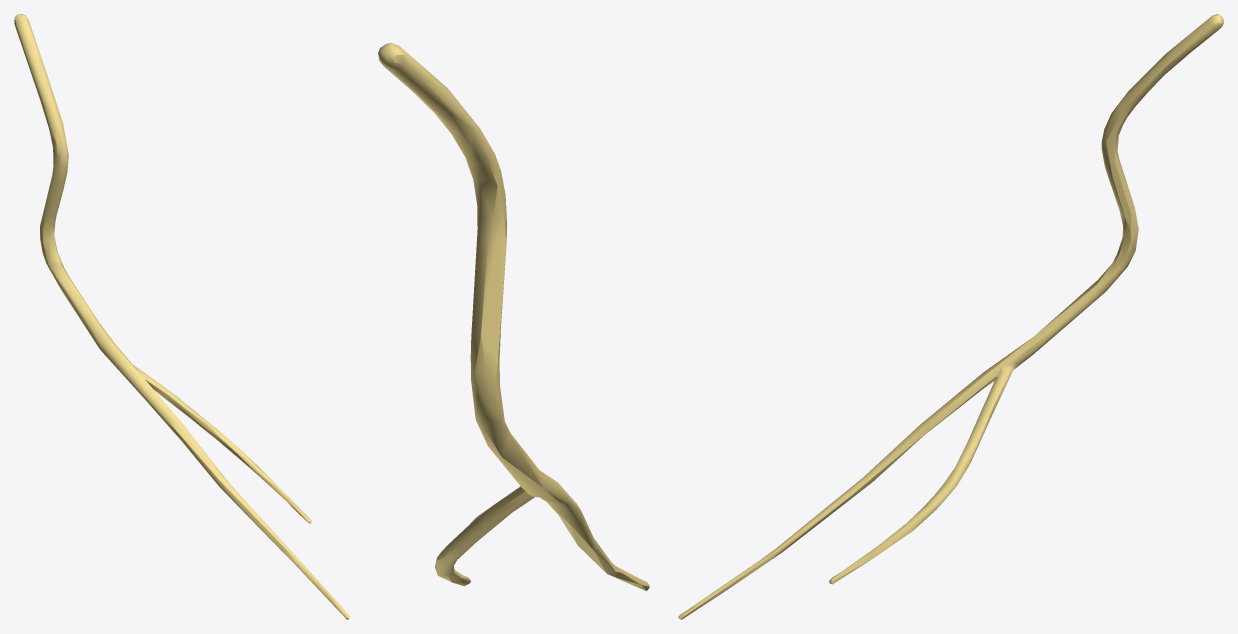
The model's file is fma52606_fj3966.glb.
3 views of the same model, side by side, from view 1: azimuth 30°, elevation 25°; view 2: azimuth 150°, elevation 25°; view 3: azimuth 270°, elevation 25° (orthographic). The views are drawn at different scales.
Visible parts, largest first — view 1: FMA52606_FJ3966; view 2: FMA52606_FJ3966; view 3: FMA52606_FJ3966.
Boxes of the visible parts, x1,y1,x2,y2 form: FMA52606_FJ3966: (14,14,349,619); FMA52606_FJ3966: (378,43,649,590); FMA52606_FJ3966: (678,14,1223,619).
Size of the model in its own units: 0.00731 by 0.0223 by 0.0202.
